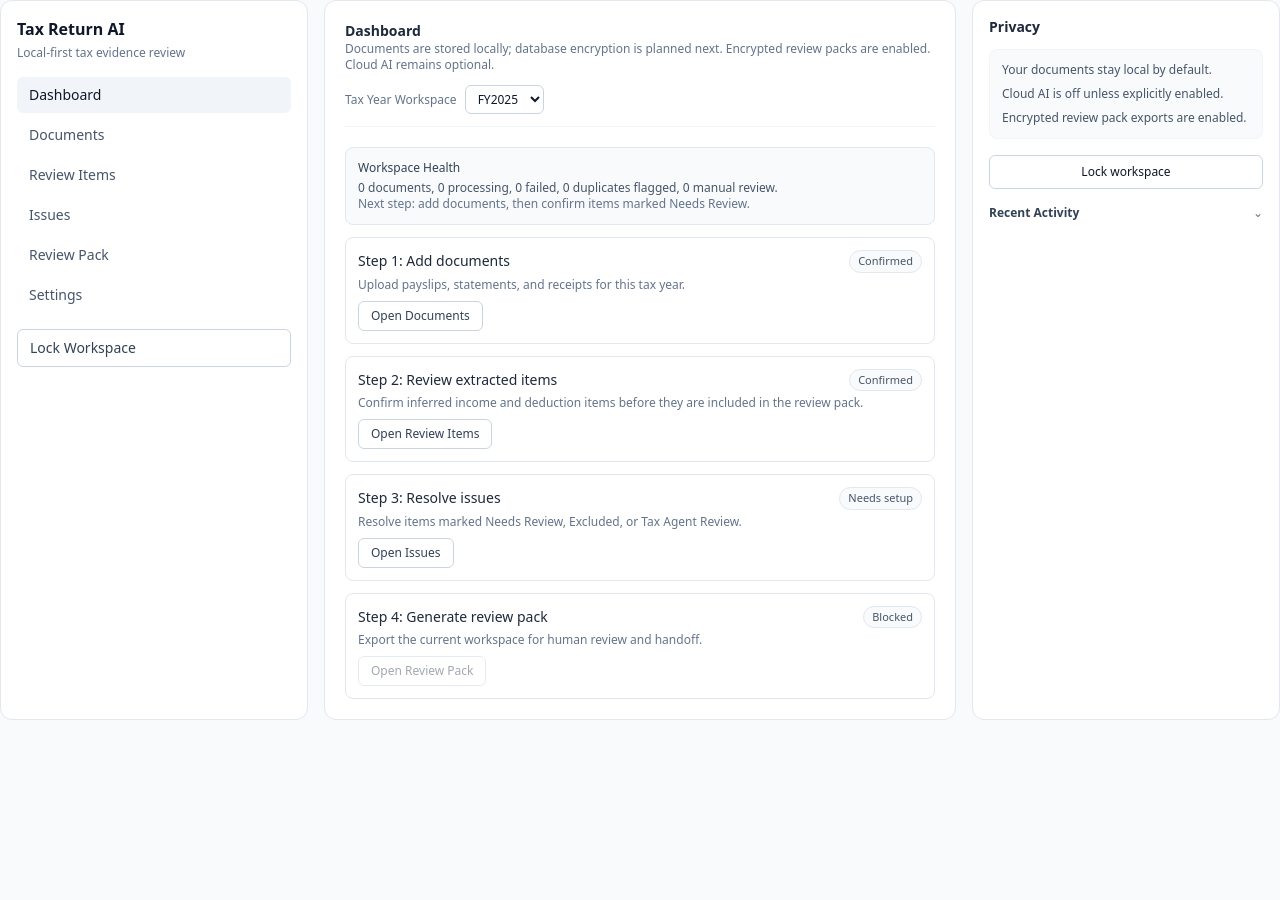
Test: WorkspaceApp API-backed states › renders export history in review pack page
Click the button "Review Pack": (69, 254) left=17, top=237, right=291, bottom=273
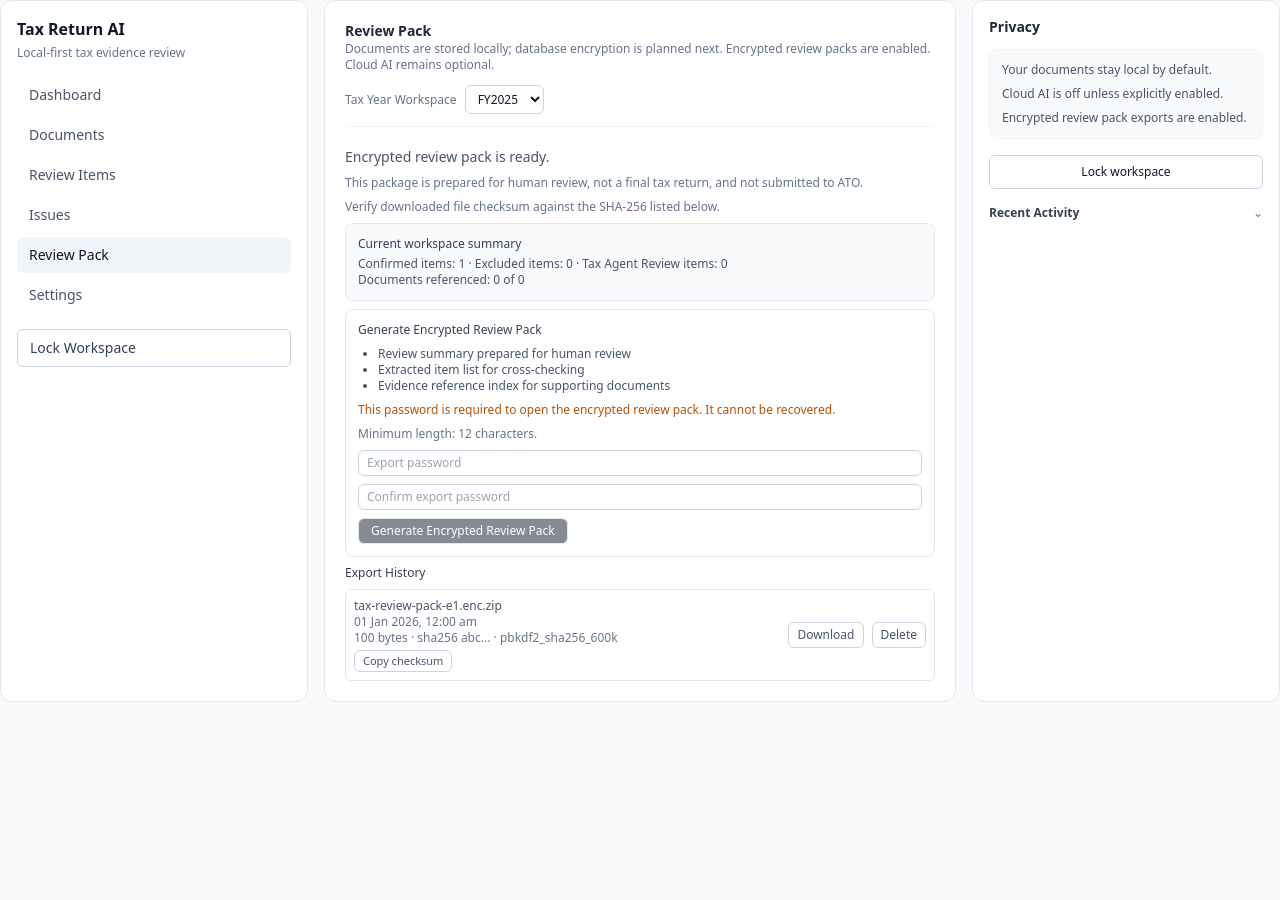
Check: the element with test id "export-history" is shown, box left=345, top=565, right=935, bottom=681
Check: the text "tax-review-pack-e1.enc.zip" is shown, box left=354, top=597, right=502, bottom=614
Check: the button "Delete" is shown, box left=872, top=622, right=926, bottom=648
